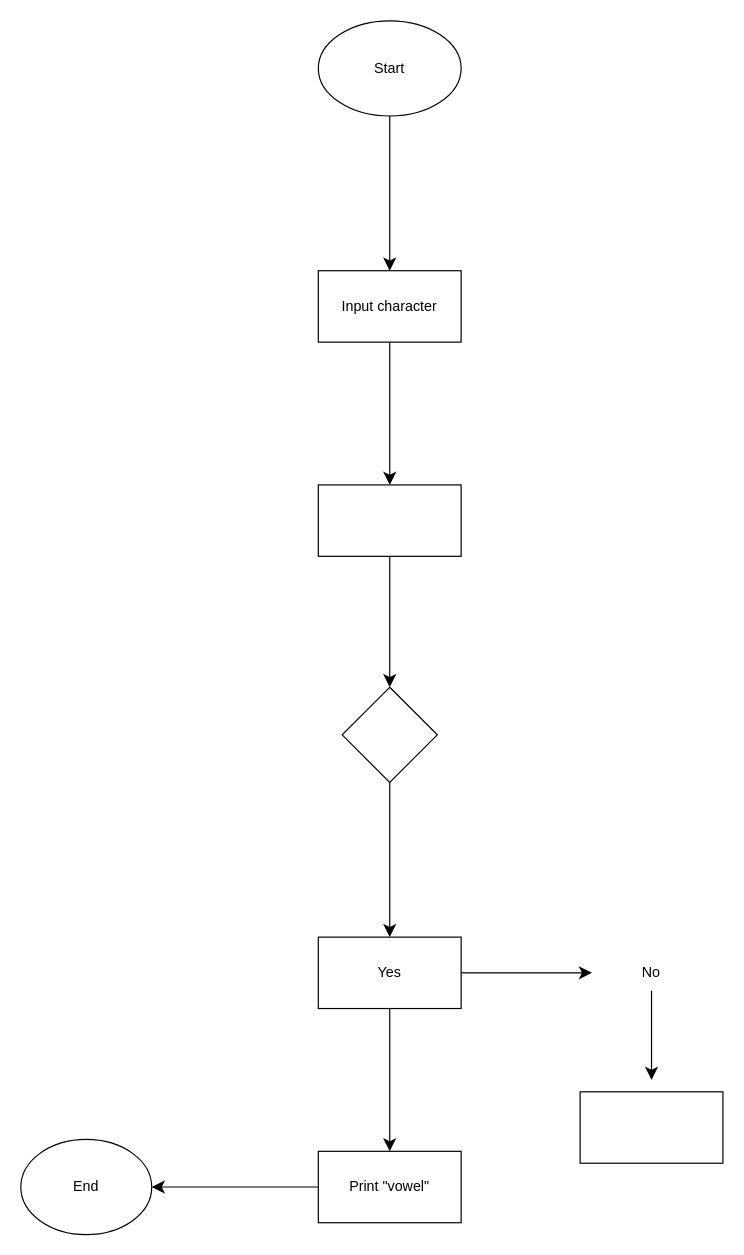
Image size: 744x1255. Some labels were removed from this diagram. Each missing label, with the centre of its shape:
Convert to lowercase: pixel 389 520
Is character a,e,i,o,u?: pixel 389 734
Print "Now Vowel": pixel 651 1127
